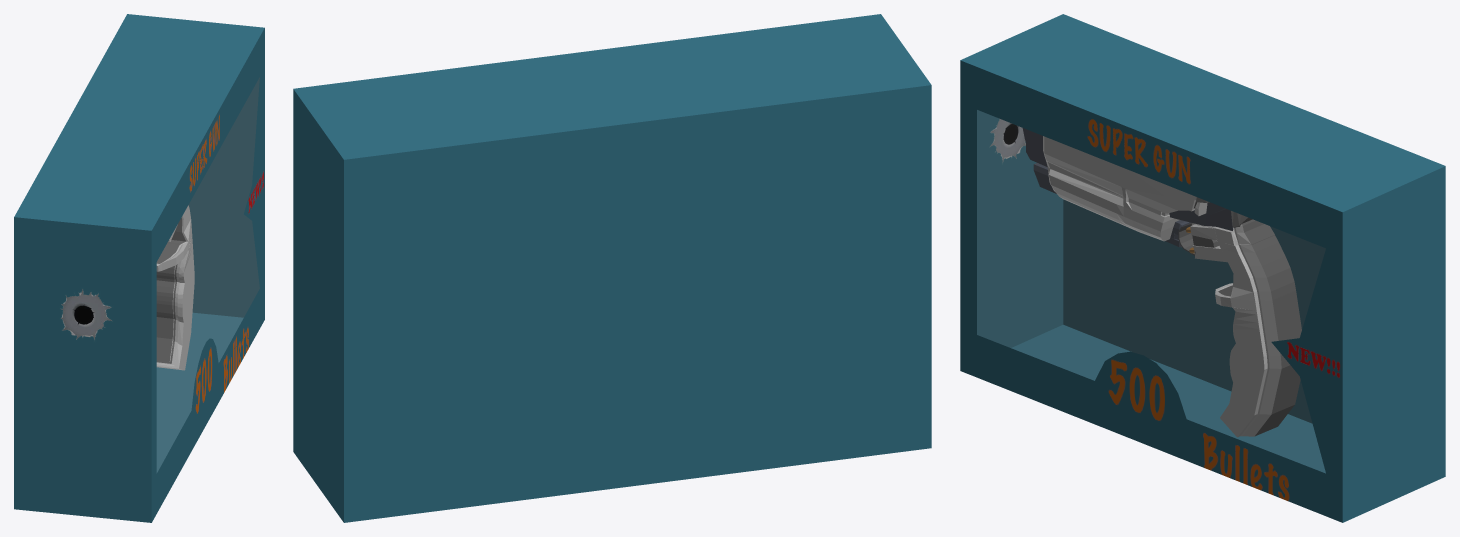
Rendered from One_gun_in_box.fbx.
3 renders of one model, left to right at view 1: azimuth 30°, elevation 25°; view 2: azimuth 150°, elevation 25°; view 3: azimuth 270°, elevation 25°, orthographic. The views are drawn at different scales.
Parts seen in each view (by area): view 1: pCube9, group30_group3; view 2: pCube9; view 3: pCube9, group30_group3.
Boxes of the visible parts, bbox=[...] form: pCube9: bbox=[14, 14, 264, 522]; group30_group3: bbox=[156, 205, 194, 370]; pCube9: bbox=[293, 14, 931, 522]; pCube9: bbox=[960, 14, 1445, 522]; group30_group3: bbox=[1022, 128, 1301, 437].
Bounding box in the file's own units: 0.3135 × 0.229 × 0.3244.
10 materials, 2 textured.
